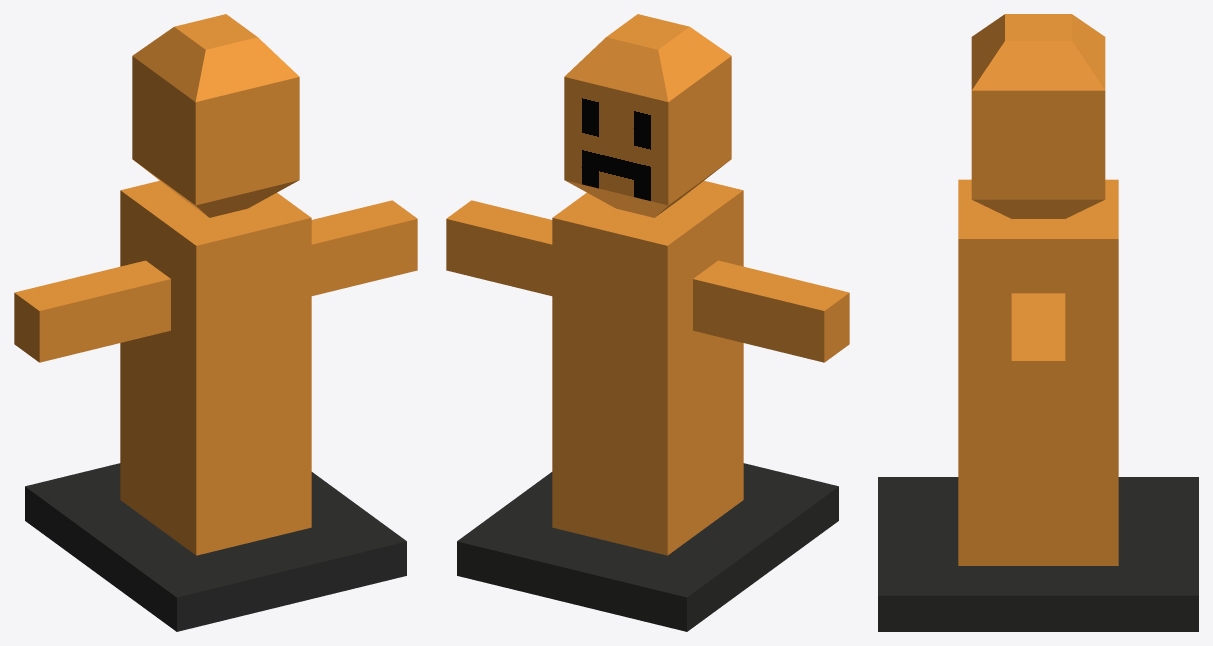
Rendered from dummy.gltf.
3 renders of one model, left to right at view 1: azimuth 30°, elevation 25°; view 2: azimuth 150°, elevation 25°; view 3: azimuth 270°, elevation 25°, orthographic. The views are drawn at different scales.
Visible parts, largest first — view 1: cuboid; view 2: cuboid; view 3: cuboid.
Part boxes in pixels (x1=…): cuboid: x1=14, y1=14, x2=417, y2=631; cuboid: x1=446, y1=14, x2=849, y2=631; cuboid: x1=878, y1=14, x2=1198, y2=631.
Size of the model in its own units: 0.7188 by 0.9375 by 0.5.
Materials: 1 (1 with a texture image).
